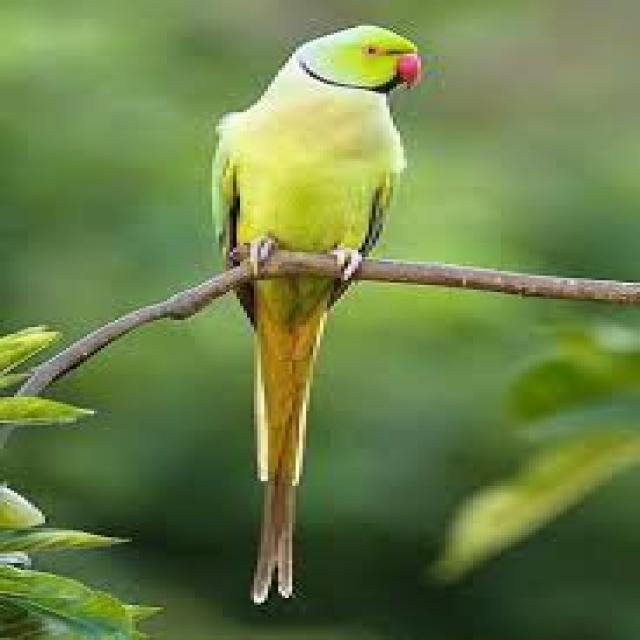Parrot: (201, 21, 435, 597)
